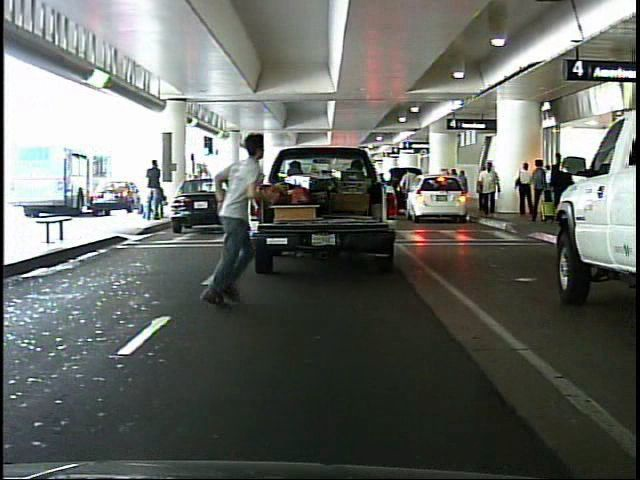person: (168, 123, 278, 319), (474, 156, 503, 225), (550, 152, 573, 223), (530, 158, 552, 225), (515, 156, 538, 219), (147, 157, 169, 219)
